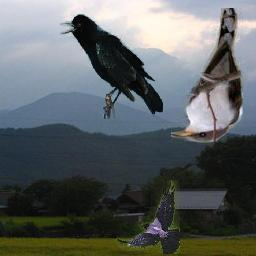Crow: (61, 15, 164, 120), (116, 180, 180, 254)
Cuckoo: (172, 9, 245, 144)
